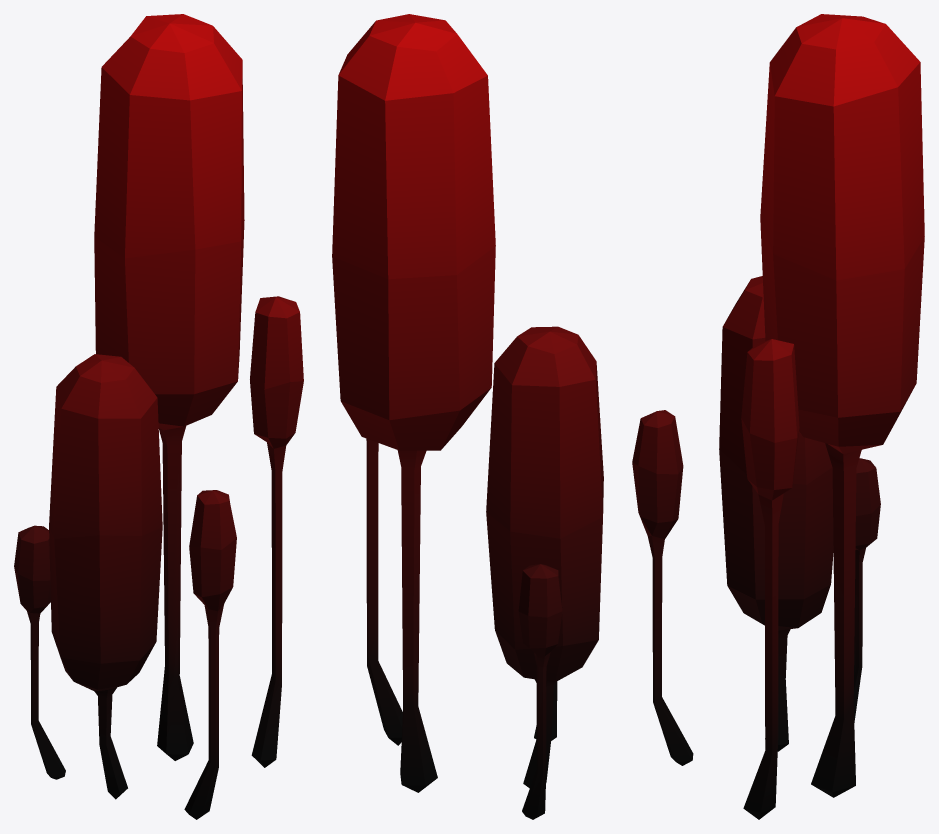
Rendered from SM_Env_Plant_Balloon_Tall_01.fbx.
3 renders of one model, left to right at view 1: azimuth 30°, elevation 25°; view 2: azimuth 150°, elevation 25°; view 3: azimuth 270°, elevation 25°, orthographic. The views are drawn at different scales.
Visible parts, largest first — view 1: SM_Env_Plant_Balloon_Tall_01; view 2: SM_Env_Plant_Balloon_Tall_01; view 3: SM_Env_Plant_Balloon_Tall_01.
Part boxes in pixels (<box>): SM_Env_Plant_Balloon_Tall_01: <box>14,14,303,819</box>; SM_Env_Plant_Balloon_Tall_01: <box>332,14,603,819</box>; SM_Env_Plant_Balloon_Tall_01: <box>632,14,924,819</box>.
Size of the model in its own units: 159 by 454 by 154.
